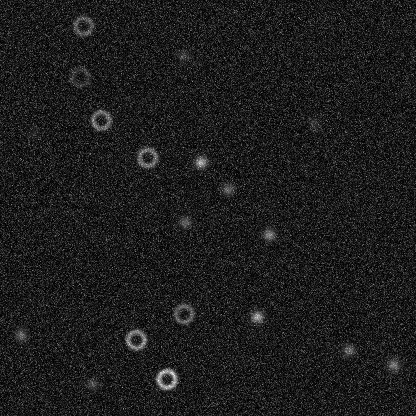Ring: (154, 367, 178, 391), (135, 145, 159, 169), (171, 301, 195, 325), (71, 13, 95, 37), (123, 327, 147, 351), (68, 64, 92, 88), (88, 107, 112, 131)
Spot: (219, 181, 235, 197), (192, 154, 208, 170), (340, 342, 356, 358), (306, 115, 322, 131), (83, 376, 99, 392), (13, 327, 29, 343), (385, 356, 401, 372), (176, 213, 192, 229), (24, 125, 40, 141), (261, 226, 277, 242), (249, 308, 265, 324), (175, 47, 191, 63)
